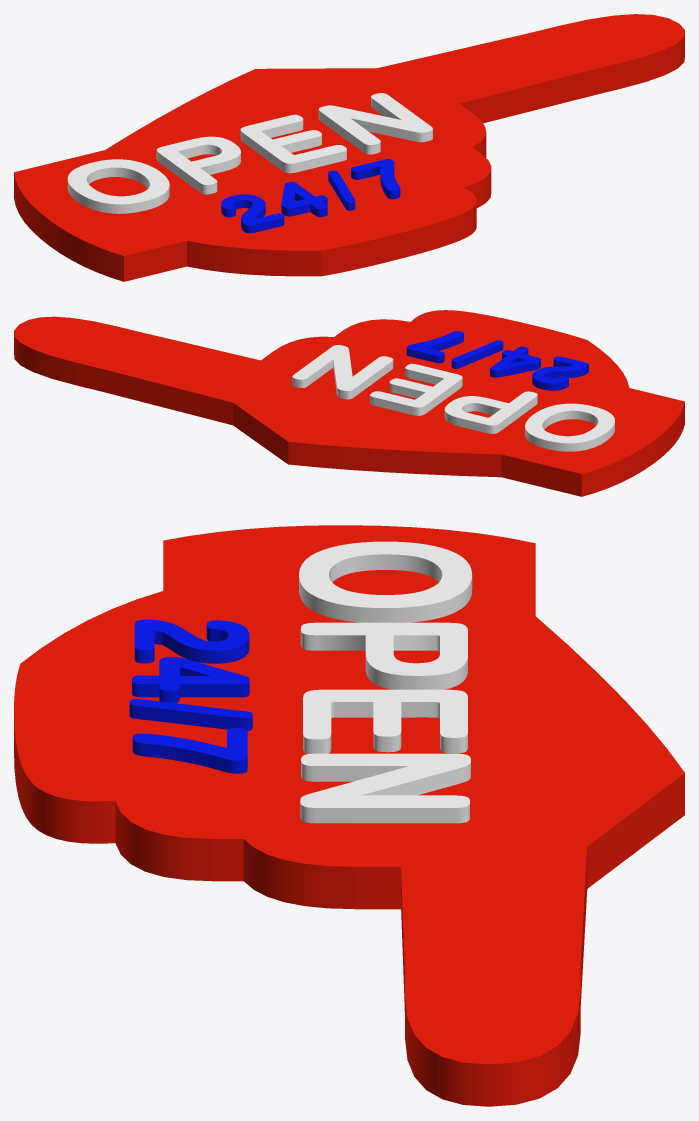
3 views of the same model, one above another, from view 1: azimuth 30°, elevation 25°; view 2: azimuth 150°, elevation 25°; view 3: azimuth 270°, elevation 25° (orthographic). The views are drawn at different scales.
Parts seen in each view (by area): view 1: TextPlus011, Text017, Text027; view 2: TextPlus011, Text017, Text027; view 3: TextPlus011, Text017, Text027.
Boxes of the visible parts, bbox=[...] form: TextPlus011: bbox=[14, 14, 684, 281]; Text017: bbox=[67, 93, 432, 213]; Text027: bbox=[221, 159, 400, 233]; TextPlus011: bbox=[14, 310, 684, 496]; Text017: bbox=[292, 345, 614, 451]; Text027: bbox=[406, 331, 588, 390]; TextPlus011: bbox=[14, 525, 684, 1106]; Text017: bbox=[299, 541, 472, 823]; Text027: bbox=[129, 619, 252, 773].
Bounding box in the file's own units: 31.67 × 1.99 × 16.66.
